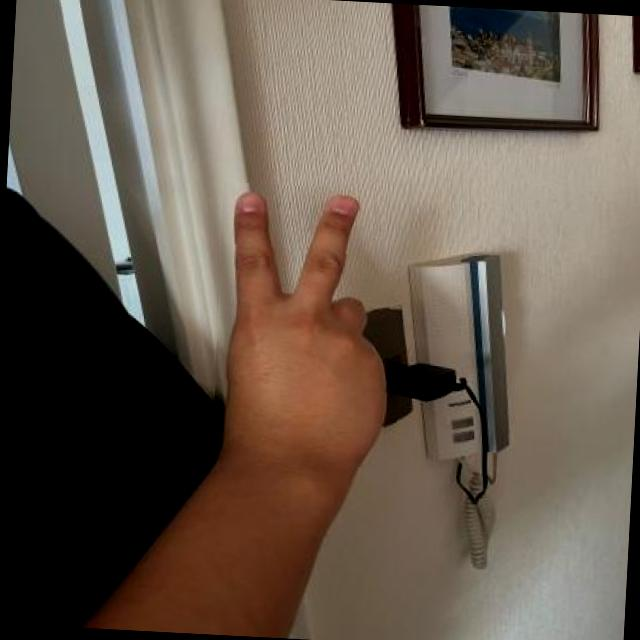V: (210, 182, 408, 470)
